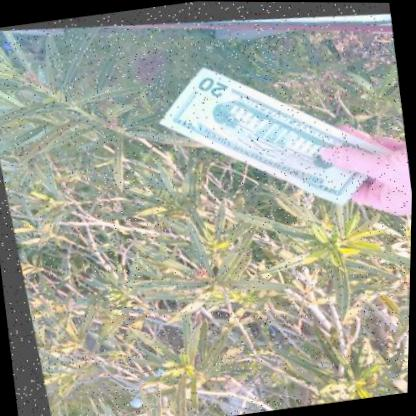dollar_back: (156, 61, 388, 199)
